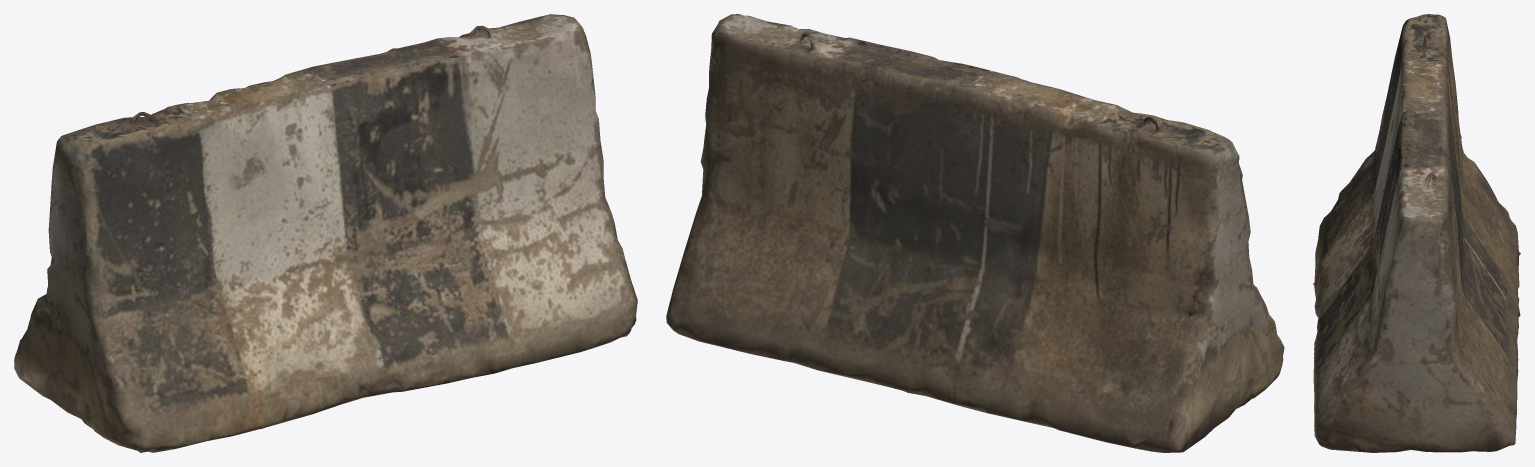
Rendered from concrete_road_barrier.glb.
3 views of the same model, side by side, from view 1: azimuth 30°, elevation 25°; view 2: azimuth 150°, elevation 25°; view 3: azimuth 270°, elevation 25° (orthographic). The views are drawn at different scales.
Visible parts, largest first — view 1: concrete_road_barrier; view 2: concrete_road_barrier; view 3: concrete_road_barrier.
Part boxes in pixels (x1,y1,x2,y2): concrete_road_barrier: (14,14,637,452); concrete_road_barrier: (666,14,1284,452); concrete_road_barrier: (1313,14,1520,452).
Size of the model in its own units: 1.54 by 0.8299 by 0.6387.
1 material, 1 textured.
